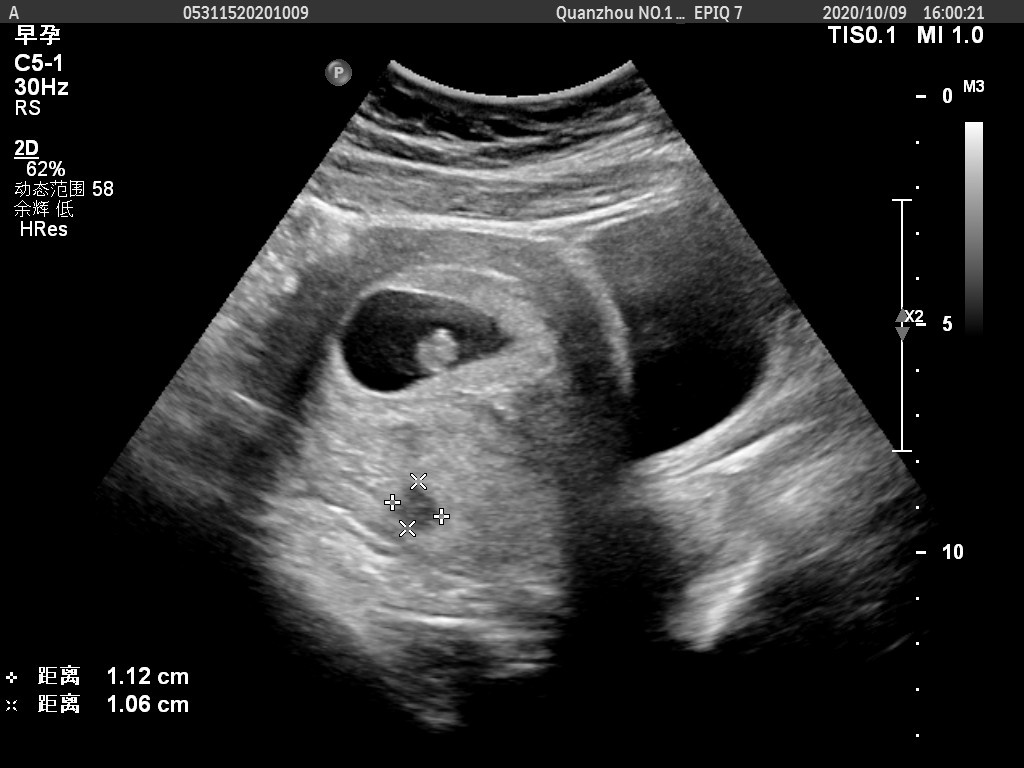肌瘤: (399, 484, 438, 529)
